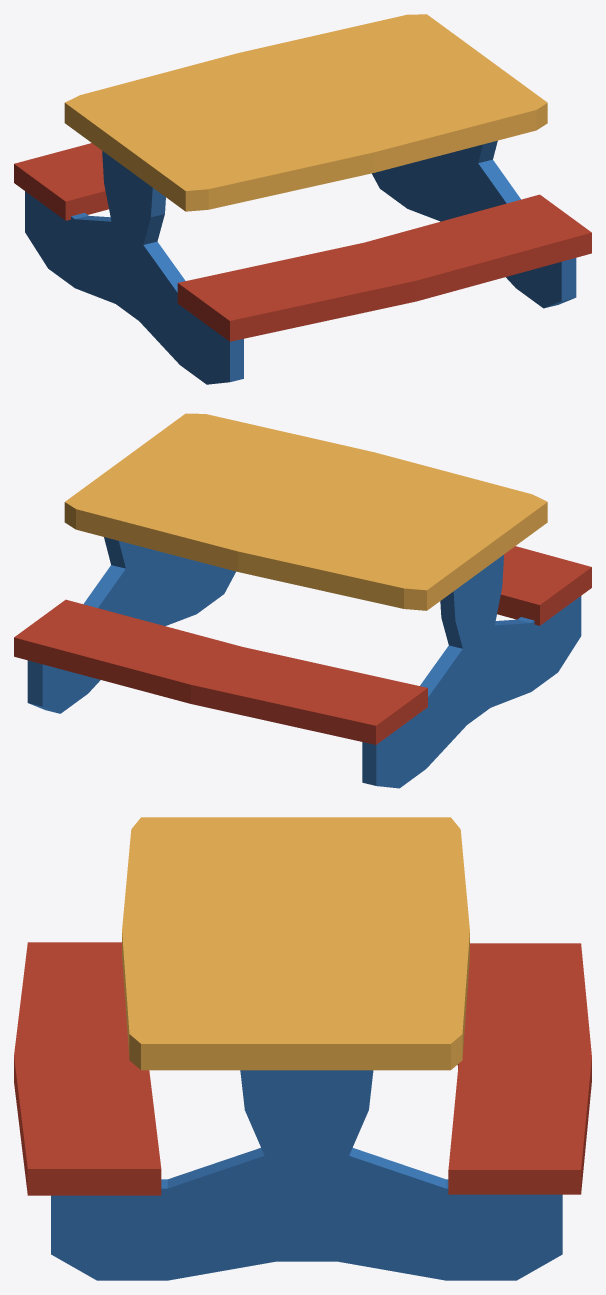
File: SM_Prop_Playground_Table_01.fbx
3 views of the same model, one above another, from view 1: azimuth 30°, elevation 25°; view 2: azimuth 150°, elevation 25°; view 3: azimuth 270°, elevation 25° (orthographic). The views are drawn at different scales.
Parts seen in each view (by area): view 1: SM_Prop_Playground_Table_01; view 2: SM_Prop_Playground_Table_01; view 3: SM_Prop_Playground_Table_01.
Part boxes in pixels (x1=…): SM_Prop_Playground_Table_01: x1=14, y1=14, x2=591, y2=384; SM_Prop_Playground_Table_01: x1=14, y1=413, x2=591, y2=788; SM_Prop_Playground_Table_01: x1=14, y1=817, x2=591, y2=1280.
Size of the model in its own units: 149 by 74.05 by 161.
